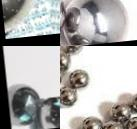ironball: (62, 0, 129, 46), (0, 0, 49, 39), (5, 79, 41, 127), (62, 60, 93, 90), (32, 96, 60, 128), (100, 100, 127, 125), (60, 83, 79, 116), (60, 0, 67, 46), (121, 112, 136, 128), (60, 46, 85, 55), (128, 87, 136, 114), (100, 120, 125, 128), (60, 64, 63, 89), (60, 44, 85, 46)
